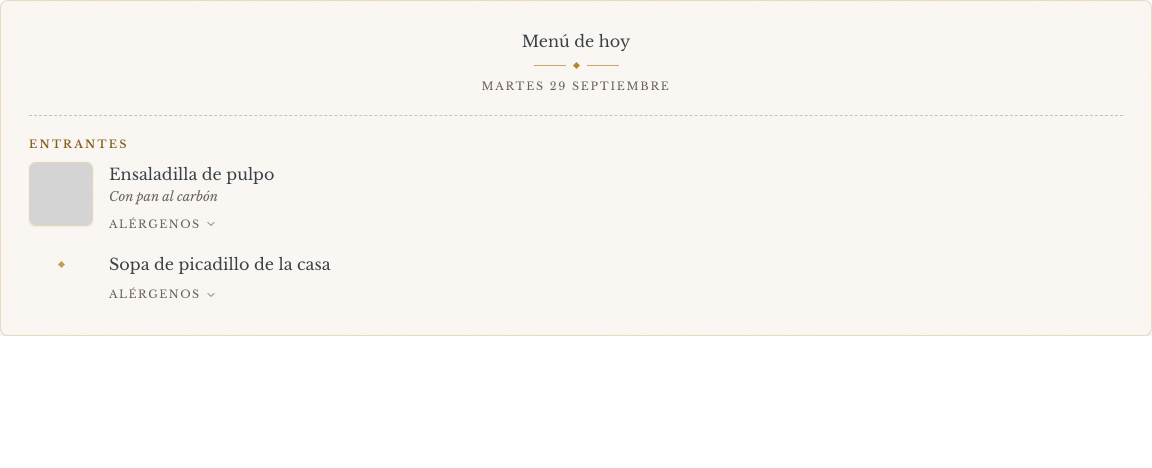
it: CartaDelDia — los alérgenos están, pero no de entrada › al abrirlo distingue lo declarado de lo deducido
The width and height of the screenshot is (1152, 468).
Step 1. Click the heading "Alérgenos" below "Con pan al carbón" → click(163, 224), box [105,208,221,240]
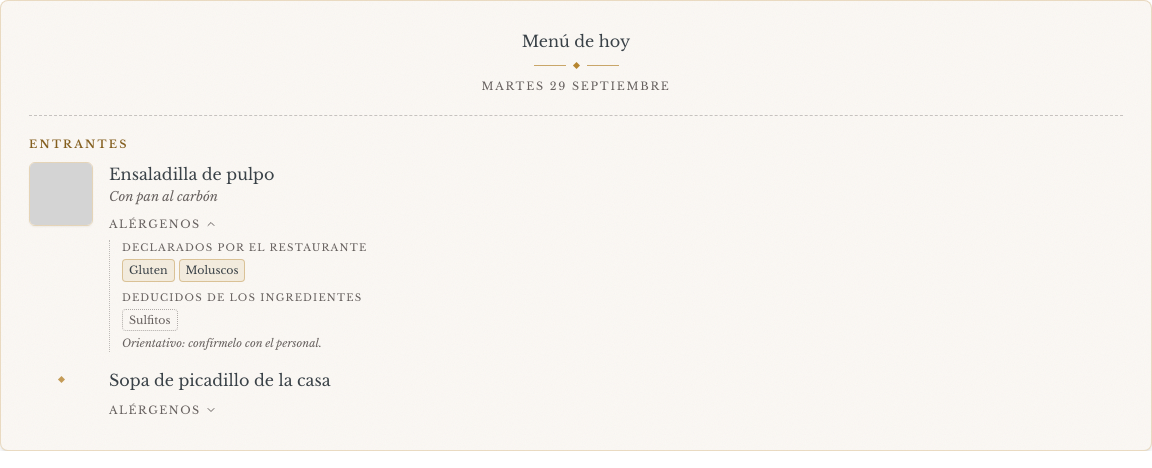
Result: the text "Declarados por el restaurante" is shown at [122,241,367,254]
Result: the text "Deducidos de los ingredientes" is shown at [122,291,362,304]
Result: the list item "Gluten" is shown at [122,259,175,282]
